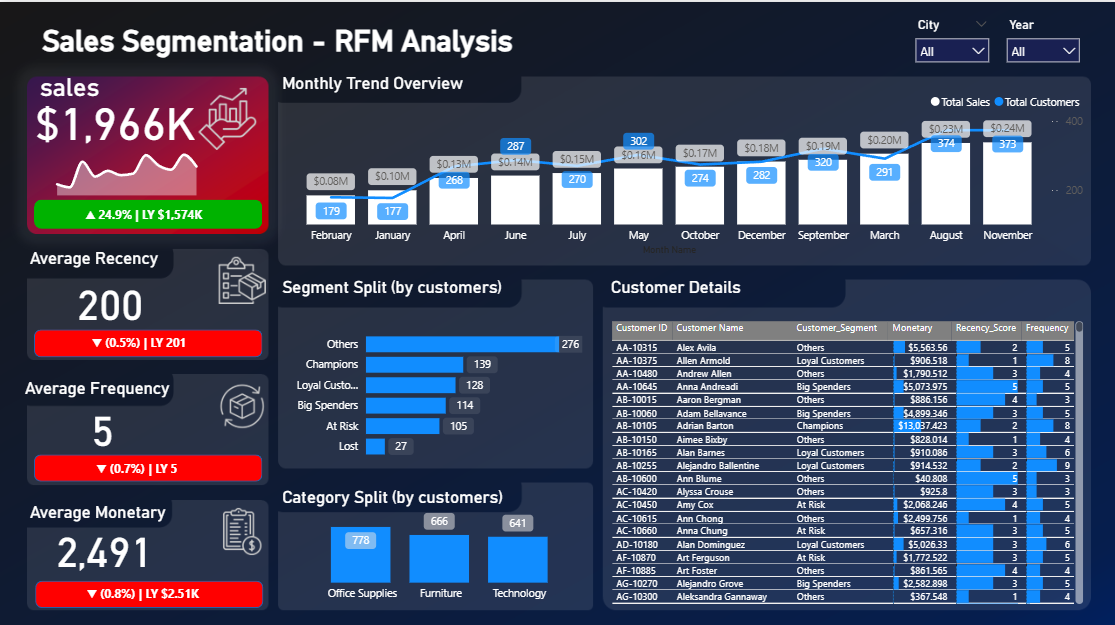

The dashboard page shown, as its layout file describes it:
{"tool":"powerbi","page":{"name":"Page 1","canvas":[1280,720],"ordinal":0},"visuals":[{"type":"shape","box":[40,226.4,260.9,33.6],"z":0},{"type":"textbox","box":[30.3,19.6,576.7,49.8],"z":1000},{"type":"card","fields":{"Values":["Tbl_Measure.Total Sales"]},"box":[30,100,206.4,66.4],"z":2000},{"type":"textbox","box":[40.9,76.4,88.2,46.4],"z":3000},{"type":"card","fields":{"Values":["Tbl_Measure.AvgFrequency"]},"box":[79,458,79,55],"z":4000},{"type":"card","fields":{"Values":["Tbl_Measure.AvgMonetary"]},"box":[41,591,158,66],"z":5000},{"type":"card","fields":{"Values":["Tbl_Measure.AvgRecency"]},"box":[63.5,310.2,128.4,63.5],"z":6000},{"type":"textbox","box":[30.3,277,167.4,33.2],"z":7000},{"type":"textbox","box":[24.5,425.6,190.4,31.7],"z":8000},{"type":"textbox","box":[30.3,567,176,33.2],"z":9000},{"type":"card","fields":{"Values":["Tbl_Measure.YoY SalesVariance"]},"box":[66.4,226.4,199.1,40],"z":10000},{"type":"slicer","fields":{"Values":["DateTable.Year"]},"box":[1141.2,13,103.9,63.5],"z":11000},{"type":"shape","box":[40.4,373.7,261.1,31.7],"z":12000},{"type":"card","fields":{"Values":["Tbl_Measure.YoY RecencyVar"]},"box":[68,374,183,34],"z":13000},{"type":"shape","box":[40,517,261,31],"z":14000},{"type":"card","fields":{"Values":["Tbl_Measure.YoY FrequencyVar"]},"box":[66,521,184,27],"z":15000},{"type":"shape","box":[41.2,661.8,260.6,31.2],"z":16000},{"type":"card","fields":{"Values":["Tbl_Measure.YoY MonetaryVar"]},"box":[76.5,662.2,174.6,31.7],"z":17000},{"type":"lineChart","fields":{"Category":["DateTable.Month Number"],"Y":["Tbl_Measure.Total Sales"]},"box":[37.3,157.3,247.3,69.1],"z":18000},{"type":"lineStackedColumnComboChart","fields":{"Y":["Tbl_Measure.Total Sales"],"Y2":["Tbl_Measure.Total Customers"],"Category":["DateTable.Month Name"]},"box":[318.6,94.3,925.7,200],"z":19000},{"type":"textbox","box":[318.9,76.5,261.1,34.6],"z":20000},{"type":"clusteredBarChart","fields":{"Category":["RFM_Calculation.Customer_Segment"],"Y":["RFM_Calculation.Customer ID"]},"box":[318.9,360,353.3,172.2],"z":21000},{"type":"textbox","box":[318.9,310,261.1,34.4],"z":22000},{"type":"clusteredColumnChart","fields":{"Category":["Superstore 2025.Category"],"Y":["Superstore 2025.Customer ID"]},"box":[338.9,567.8,333.3,126.7],"z":22001},{"type":"textbox","box":[318.9,550,287.8,33.3],"z":22002},{"type":"tableEx","fields":{"Values":["RFM_Calculation.Customer ID","RFM_Calculation.Customer Name","RFM_Calculation.Customer_Segment","RFM_Calculation.Monetary","RFM_Calculation.Recency_Score","RFM_Calculation.Frequency"]},"box":[694.4,360,550,333.3],"z":22003},{"type":"textbox","box":[694.4,310,261.1,34.4],"z":22004},{"type":"slicer","fields":{"Values":["Superstore 2025.City"]},"box":[1036.7,12.2,104.4,63.3],"z":22005}]}

Visuals, with their boxes in screenshot pixels (x1, y1, x2, y2), scaled from the page's 1280x720 canvas onto the 1115x625 screenshot:
shape: 35:197:262:226
textbox: 26:17:529:60
card - Tbl_Measure.Total Sales: 26:87:206:144
textbox: 36:66:112:107
card - Tbl_Measure.AvgFrequency: 69:398:138:445
card - Tbl_Measure.AvgMonetary: 36:513:173:570
card - Tbl_Measure.AvgRecency: 55:269:167:324
textbox: 26:240:172:269
textbox: 21:369:187:397
textbox: 26:492:180:521
card - Tbl_Measure.YoY SalesVariance: 58:197:231:231
slicer - DateTable.Year: 994:11:1085:66
shape: 35:324:263:352
card - Tbl_Measure.YoY RecencyVar: 59:325:219:354
shape: 35:449:262:476
card - Tbl_Measure.YoY FrequencyVar: 57:452:218:476
shape: 36:574:263:602
card - Tbl_Measure.YoY MonetaryVar: 67:575:219:602
lineChart - DateTable.Month Number x Tbl_Measure.Total Sales: 32:137:248:197
lineStackedColumnComboChart - Tbl_Measure.Total Sales x Tbl_Measure.Total Customers: 278:82:1084:255
textbox: 278:66:505:96
clusteredBarChart - RFM_Calculation.Customer_Segment x RFM_Calculation.Customer ID: 278:312:586:462
textbox: 278:269:505:299
clusteredColumnChart - Superstore 2025.Category x Superstore 2025.Customer ID: 295:493:586:603
textbox: 278:477:528:506
tableEx - RFM_Calculation.Customer ID x RFM_Calculation.Customer Name: 605:312:1084:602
textbox: 605:269:832:299
slicer - Superstore 2025.City: 903:11:994:66
